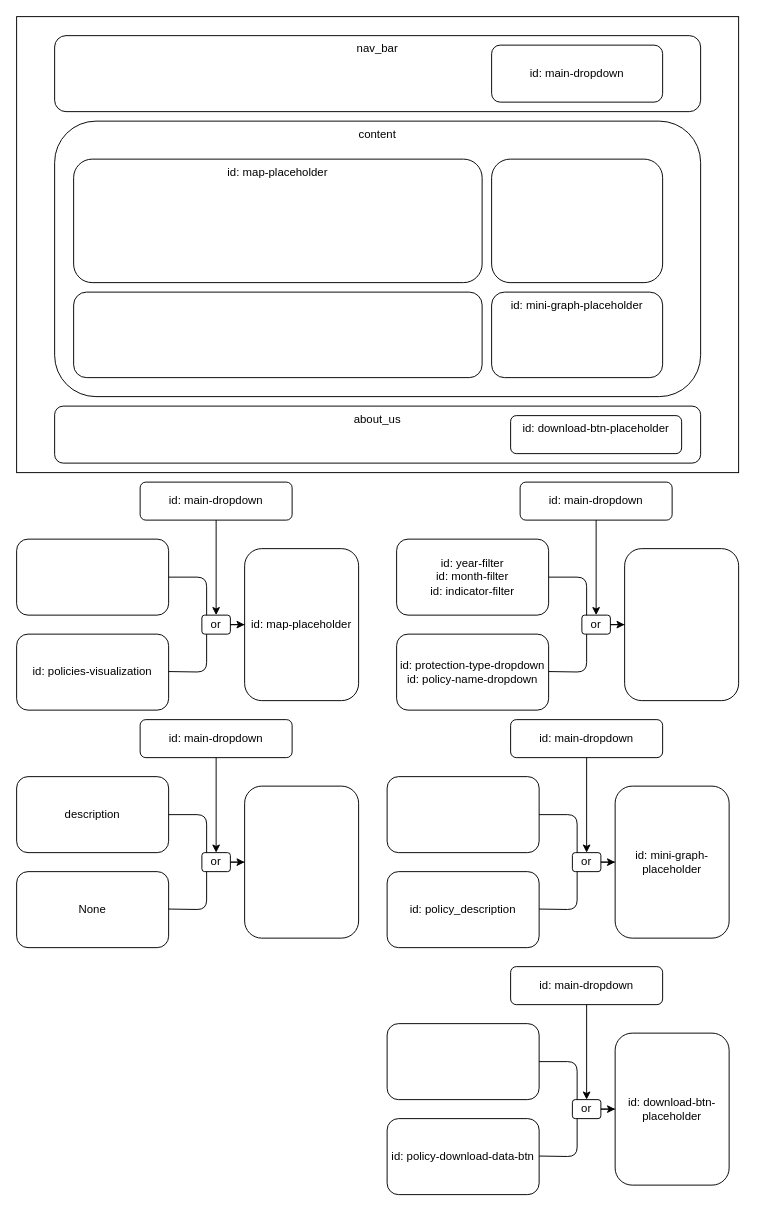
This 763x1211 diagram has some shape labels left out. Each missing label, with the centre of its shape:
id: bar-graph-visualization: point (462, 814)
id: discon-download-data-btn: point (462, 1061)
id: filter-placehlder: point (577, 220)
id: filter-placeholder: point (681, 624)
id: state-data-visualization: point (92, 576)
id: text-below-map-palceholder: point (277, 334)
id: text-below-map-placeholder: point (301, 861)
